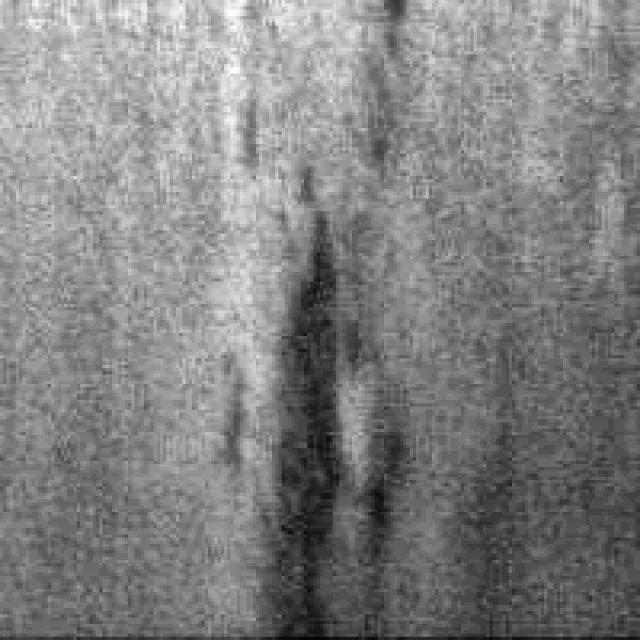Patches: (250, 132, 400, 630), (220, 80, 276, 211)
